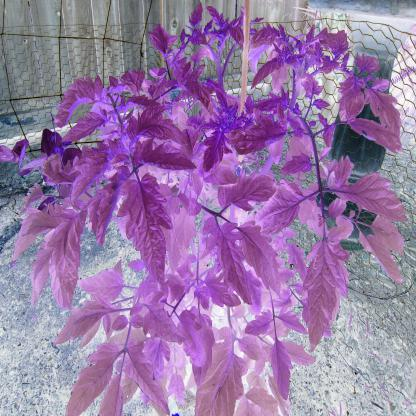tomato leaf: (300, 241, 344, 364), (329, 163, 401, 230), (124, 178, 171, 279), (51, 193, 87, 314), (198, 335, 248, 413), (122, 341, 173, 416), (222, 108, 303, 154), (70, 338, 117, 416), (238, 215, 283, 296), (53, 70, 106, 134), (164, 191, 199, 280), (215, 172, 278, 221), (348, 111, 402, 168), (118, 107, 184, 152), (357, 224, 404, 286), (90, 165, 128, 240), (12, 202, 62, 258), (135, 139, 195, 185), (220, 229, 254, 310), (136, 300, 185, 356), (58, 297, 110, 349), (172, 304, 207, 372), (63, 106, 111, 154), (70, 137, 123, 179), (201, 275, 248, 320), (249, 51, 293, 98), (171, 61, 213, 110), (80, 266, 127, 304), (117, 88, 167, 123), (202, 126, 230, 179), (139, 152, 200, 172), (147, 24, 176, 61), (276, 152, 316, 177)
